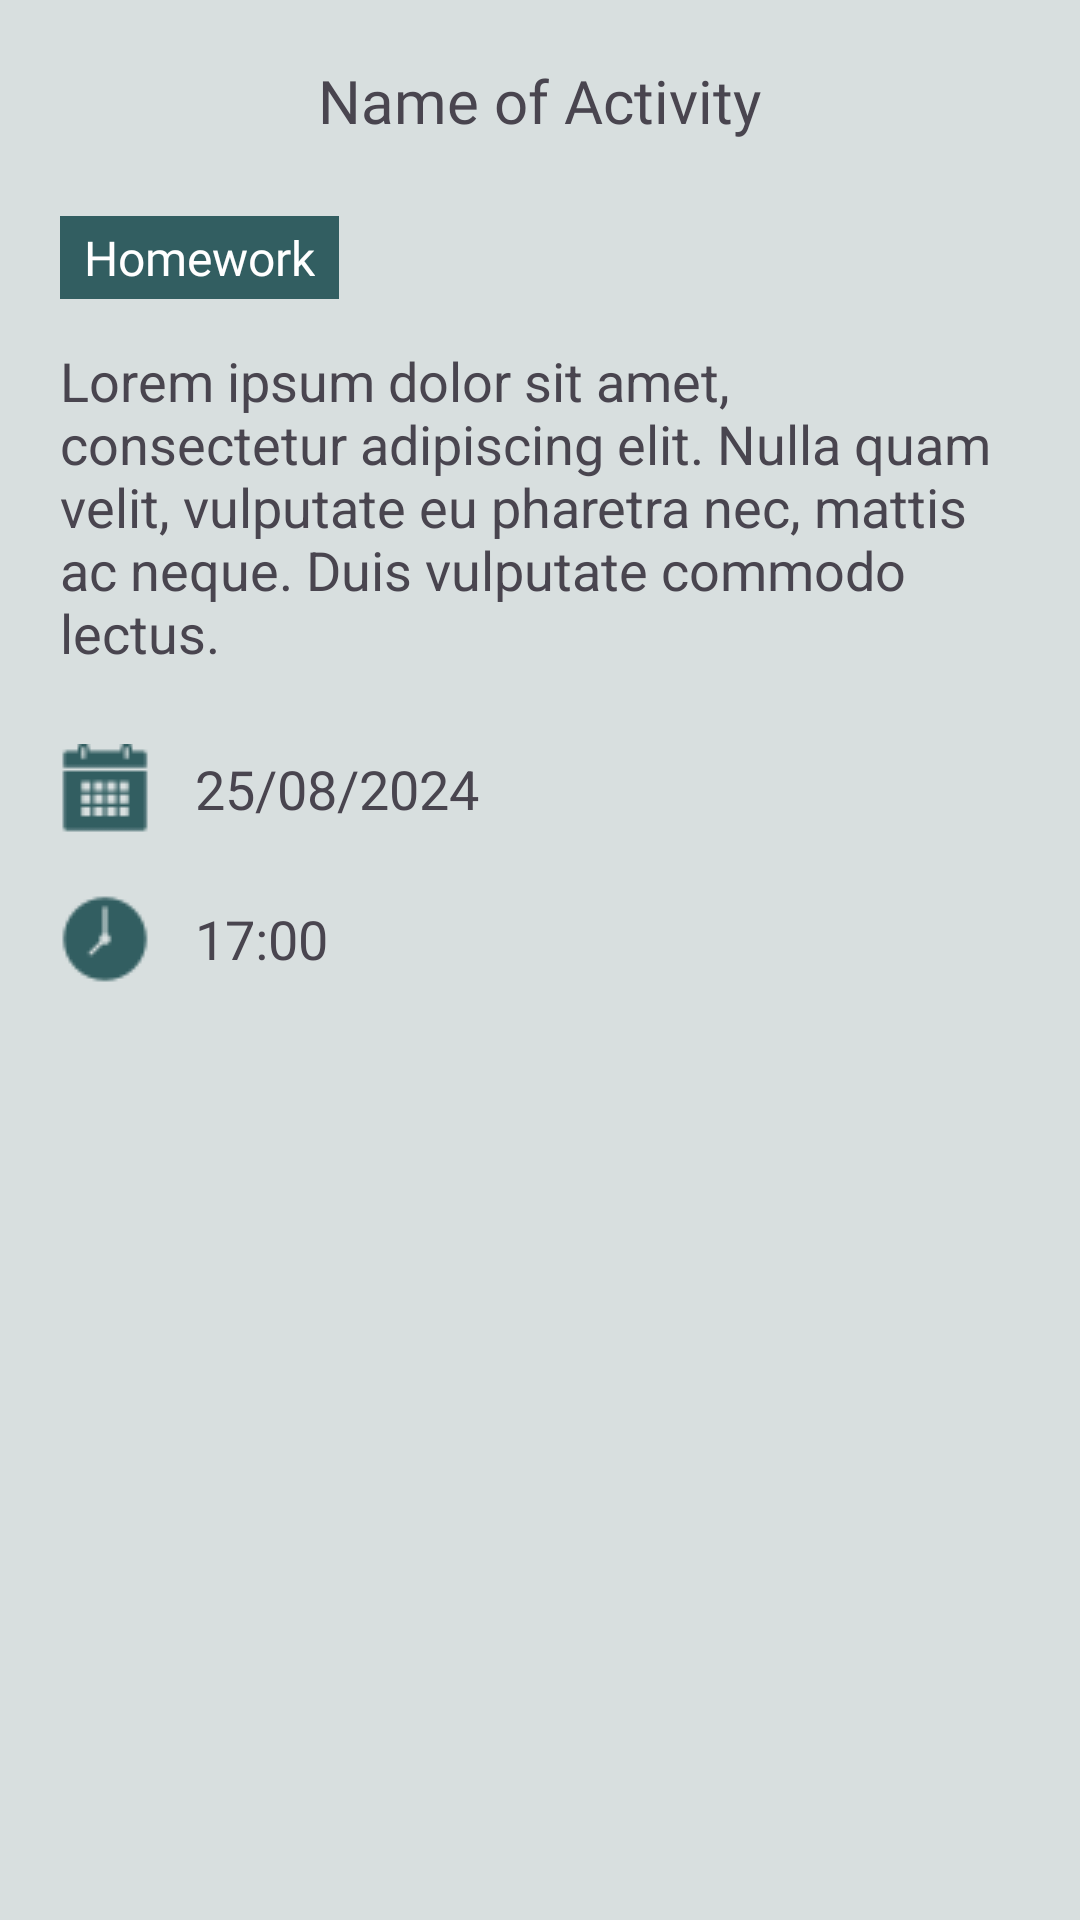

Point at icon controls on the screen. Image size 1080 x 1920, points as point (x, y).
calendar: point (105, 788)
clock: point (105, 939)
